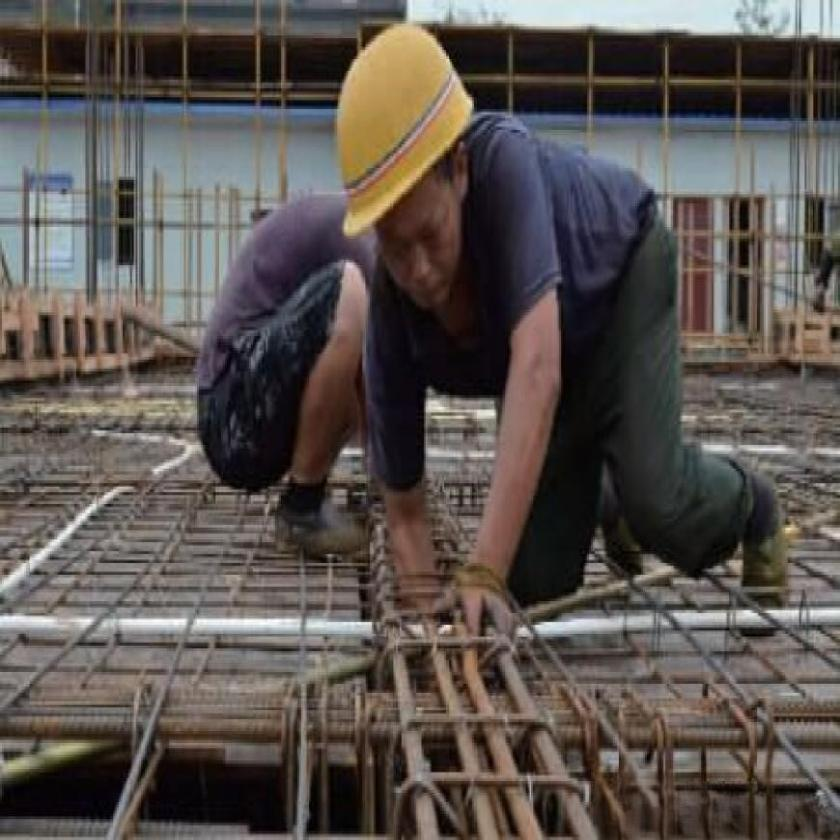Con_casco: (333, 19, 490, 326)
